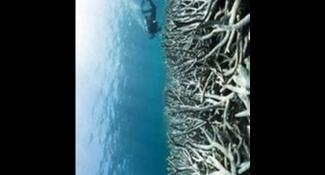bleached_corals: (162, 0, 250, 175)
